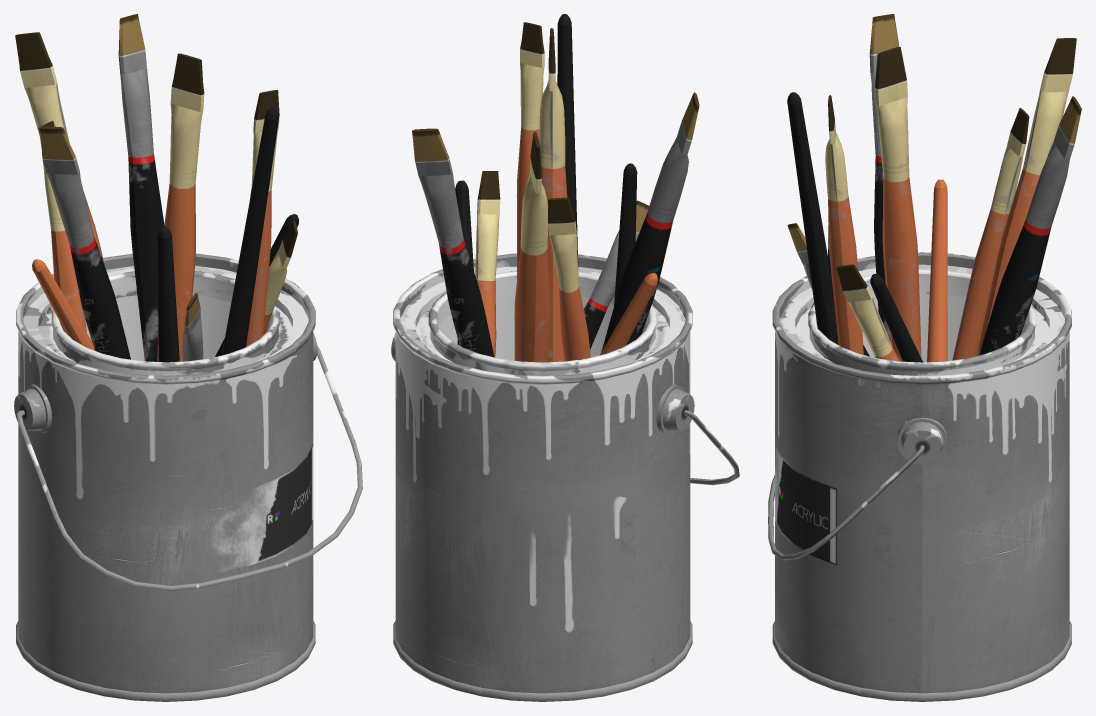
Rendered from PaintCan4_SM1.fbx.
The picture shows the model from 3 angles, left to right: view 1: azimuth 30°, elevation 25°; view 2: azimuth 150°, elevation 25°; view 3: azimuth 270°, elevation 25°; orthographic projection.
Visible parts, largest first — view 1: PaintCan4_SM1; view 2: PaintCan4_SM1; view 3: PaintCan4_SM1.
Part boxes in pixels (x1,y1,x2,y2): PaintCan4_SM1: [14, 14, 362, 701]; PaintCan4_SM1: [391, 14, 739, 701]; PaintCan4_SM1: [768, 14, 1081, 701].
Size of the model in its own units: 13.07 by 24.49 by 11.76.
